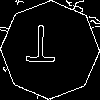T: (25, 25, 56, 71)
